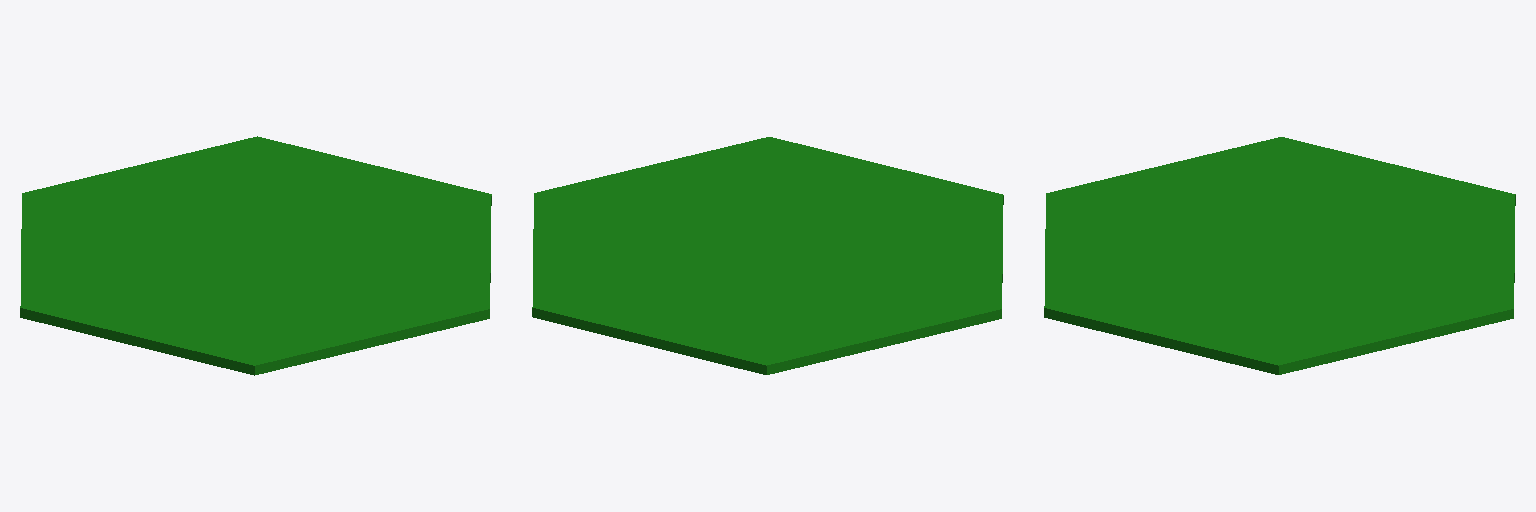
robot.urdf — Hexagon_green:
<?xml version="1.0"?>
<!-- created with Phobos 1.0.1 "Capricious Choutengan" -->
  <robot name="Hexagon_green">
  
    <material name="green">
      <color rgba="0.145 0.549 0.133 1"/>
    </material>

    <link name="Untitled">
      <inertial>
        <origin xyz="0 0 0" rpy="0 0 0"/>
        <mass value="0.001"/>
        <inertia ixx="0.001" ixy="0" ixz="0" iyy="0.001" iyz="0" izz="0.001"/>
      </inertial>
      <visual name="Miniaturebase 20151107-25899-Phehsx-0">
        <origin xyz="0 0 0" rpy="0 1.57 0.72"/>
        <geometry>
          <mesh filename="hexagon.stl" scale="0.3 1 1"/>
        </geometry>
        <material name="green"/>
      </visual>
    </link>
    
  </robot>

--- Render facts (derived) ---
3 views of the same robot in one strip: view 1: azimuth 30°, elevation 25°; view 2: azimuth 150°, elevation 25°; view 3: azimuth 270°, elevation 25° (orthographic).
Model Hexagon_green with 1 links and 0 joints (none), rooted at Untitled, posed all joints at 0.
Links seen in each view (by area): view 1: Untitled; view 2: Untitled; view 3: Untitled.
Link boxes in pixels (<box>): Untitled: <box>20,136,491,375</box>; Untitled: <box>532,137,1003,374</box>; Untitled: <box>1044,137,1515,374</box>.
Bounding box of the posed robot: 45 × 39.09 × 0.934 m (x, y, z).
1 mesh visuals loaded from 1 distinct referenced files (1 binary STL).
